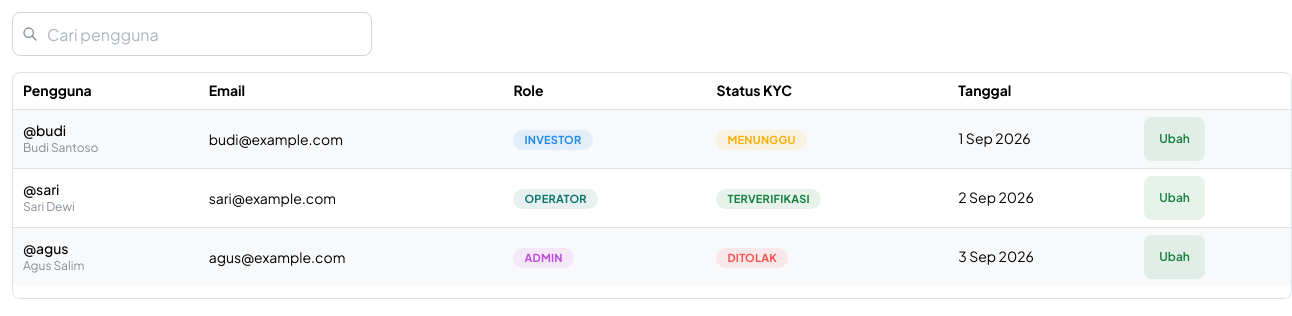
Test: Konsol pengguna operator › memfilter baris yang terlihat lewat pencarian
The image size is (1292, 316).
Expected: the text "@budi" is shown, [23,121,66,139]
Step 1. Type "sari" into the field labelled "Cari pengguna" → (192, 34), box [12,12,372,56]
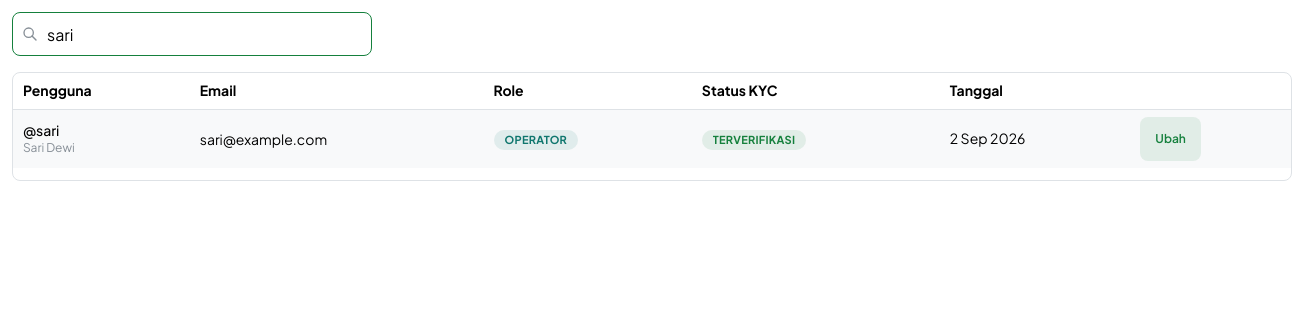
Expected: the text "@sari" is shown, [23,121,59,139]
Expected: the text "@budi" is gone
Expected: the text "@agus" is gone
